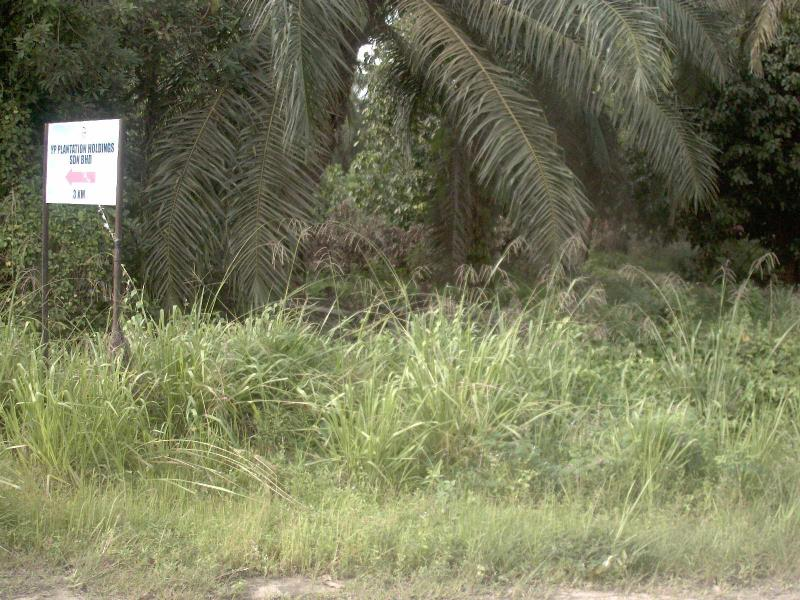ads_sign: (35, 111, 133, 217)
